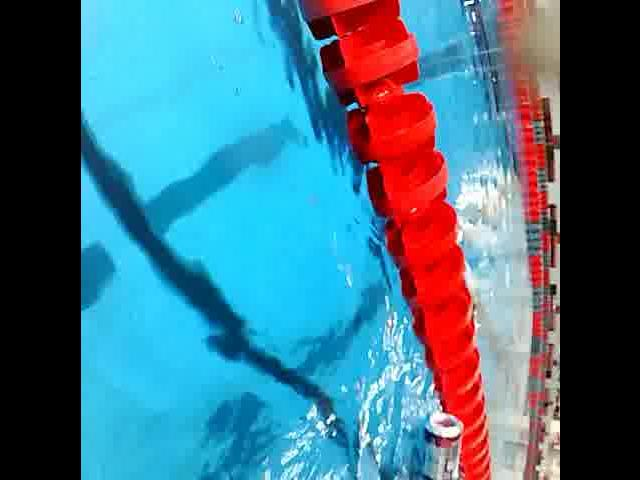Can: (415, 404, 469, 480)
